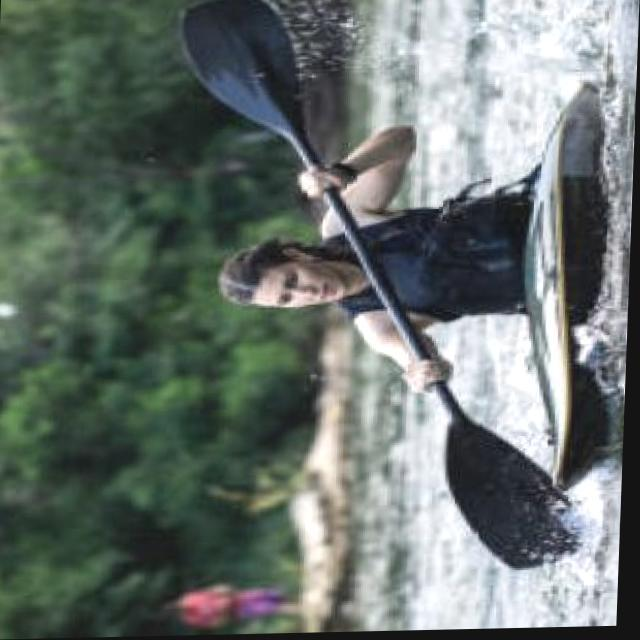kayak: (527, 90, 608, 494)
